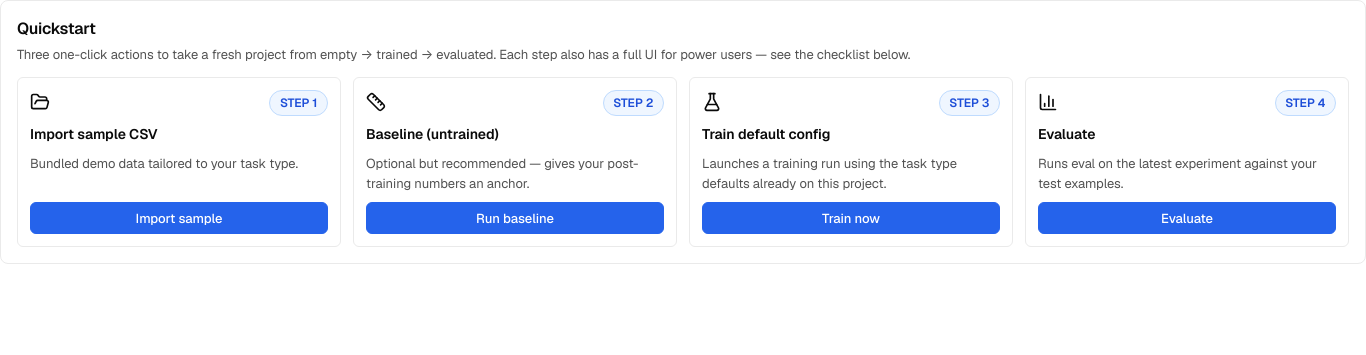
Test: QuickstartCard › renders the import→train nudge with row + gold counts after import succeeds
This screenshot has width=1366, height=355.
Click the button with test id "quickstart-import-button" at x=179, y=218, box [30,202,328,234]
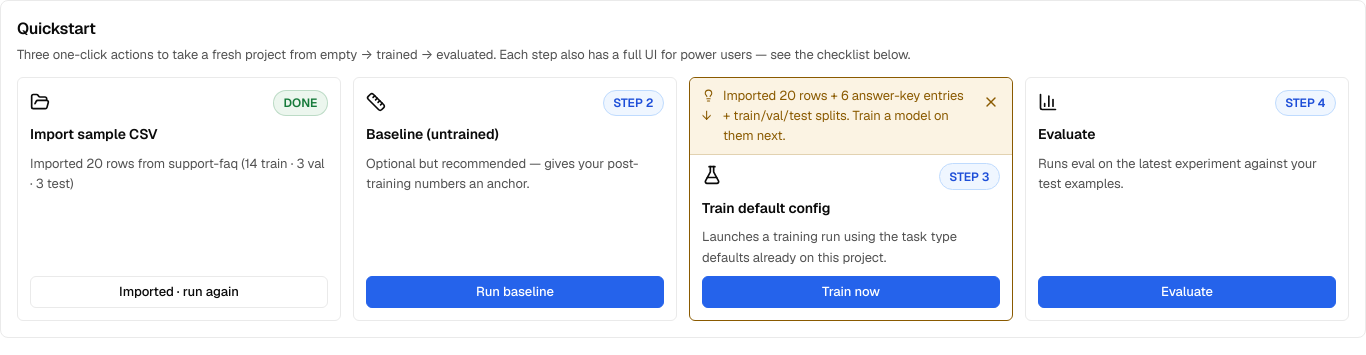
Check: the message with test id "quickstart-train-nudge" shows "Imported 20 rows + 6 answer-key entries", box [723,87,964,144]
Check: the message with test id "quickstart-train-nudge" shows "Train a model on them next", box [723,87,964,144]
